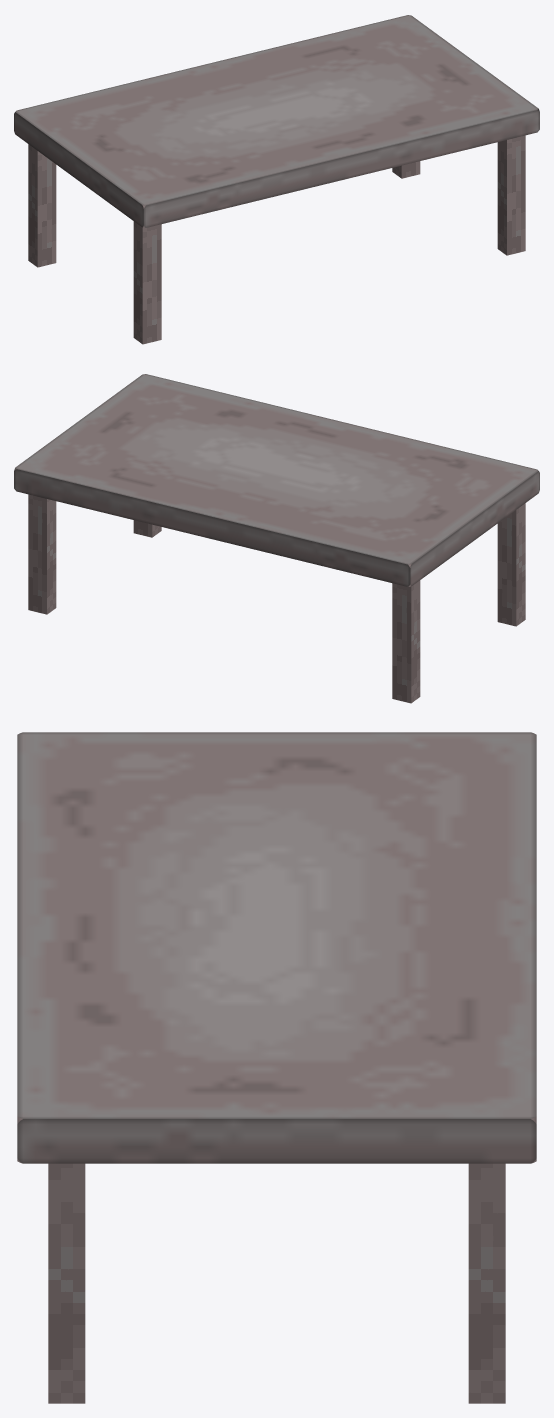
Rendered from Table.fbx.
The picture shows the model from 3 angles, top to bottom: view 1: azimuth 30°, elevation 25°; view 2: azimuth 150°, elevation 25°; view 3: azimuth 270°, elevation 25°; orthographic projection. The views are drawn at different scales.
Visible parts, largest first — view 1: Table, Leg_2, Leg_1, Leg_3; view 2: Table, Leg_3, Leg, Leg_2; view 3: Table, Leg, Leg_1.
Boxes of the visible parts, left/top/right/bottom form: Table: left=14, top=15, right=539, bottom=227; Leg_2: left=133, top=221, right=161, bottom=344; Leg_1: left=497, top=135, right=525, bottom=255; Leg_3: left=28, top=144, right=56, bottom=267; Table: left=14, top=374, right=539, bottom=586; Leg_3: left=392, top=580, right=420, bottom=703; Leg: left=28, top=494, right=56, bottom=614; Leg_2: left=497, top=503, right=525, bottom=626; Table: left=17, top=732, right=536, bottom=1163; Leg: left=468, top=1163, right=505, bottom=1403; Leg_1: left=48, top=1163, right=85, bottom=1403.
Size of the model in its own units: 462 by 162 by 262.
Materials: 2 (2 with a texture image).
